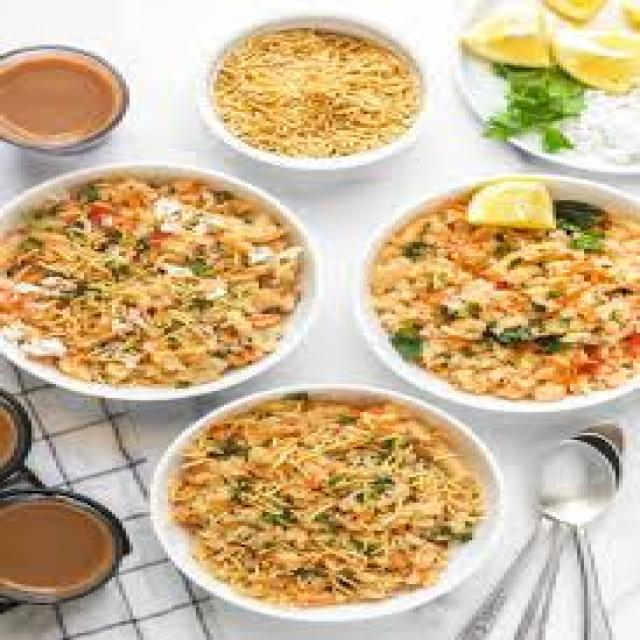POHA: (168, 393, 483, 603), (0, 175, 301, 379), (364, 200, 637, 393)
